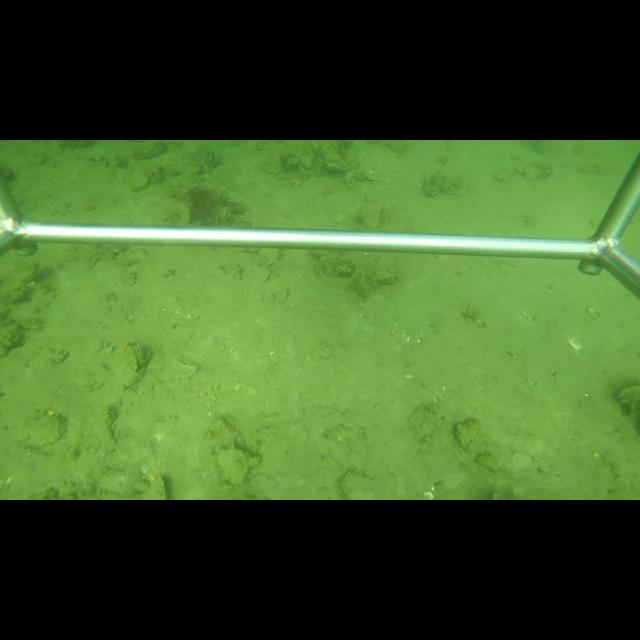Oyster-Closed: (215, 446, 253, 488), (118, 344, 148, 388), (451, 417, 484, 456), (358, 201, 386, 229)
Oyster-Open: (216, 206, 232, 224)
